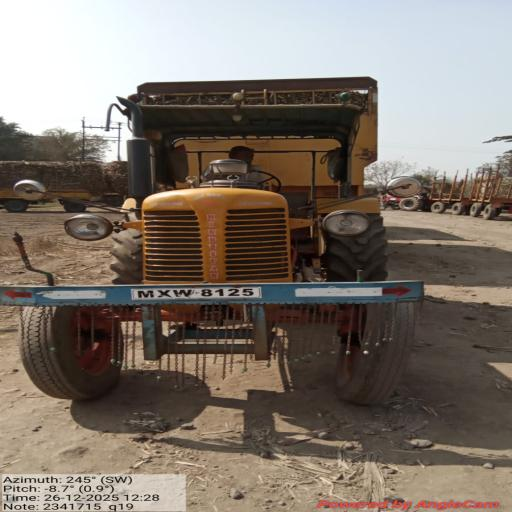number_plate: (132, 287, 261, 299)
